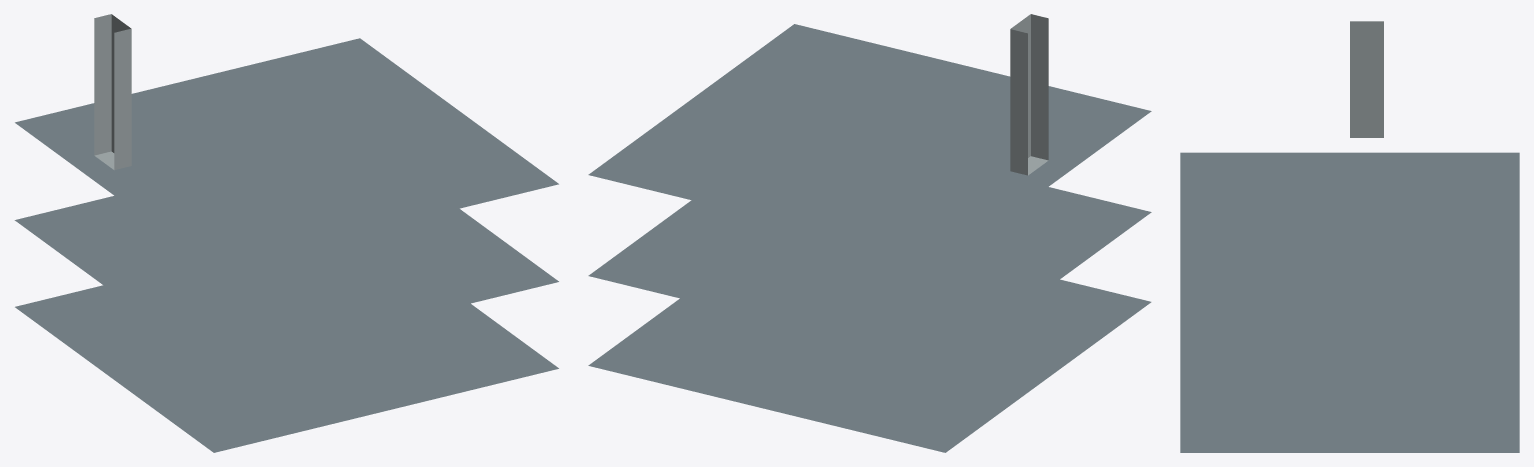
The model's file is cell_26.obj.
The picture shows the model from 3 angles, left to right: view 1: azimuth 30°, elevation 25°; view 2: azimuth 150°, elevation 25°; view 3: azimuth 270°, elevation 25°; orthographic projection. The views are drawn at different scales.
Bounding box in the file's own units: 1 × 0.96 × 1.
